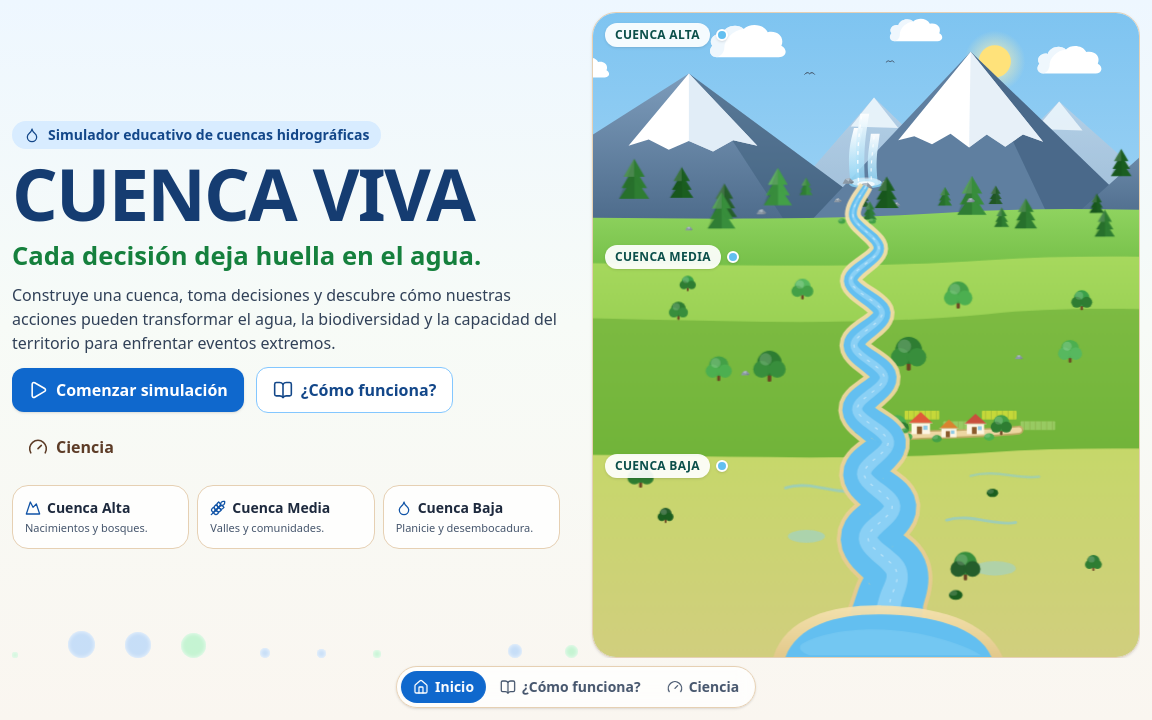
Test: App · flujo completo del simulador › permite iniciar el flujo desde la página Cómo funciona
This screenshot has width=1152, height=720.
Click the 2nd button "¿Cómo funciona?": (570, 687) [488,671,652,703]
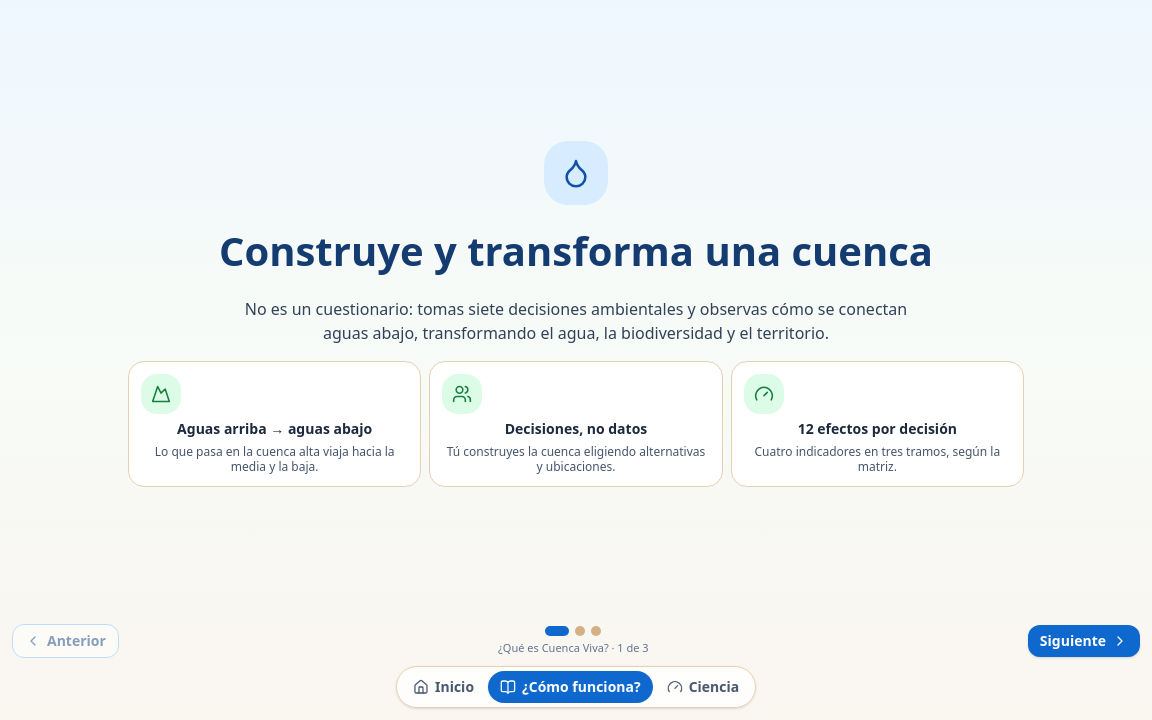
Check: the heading "Construye y transforma una cuenca" is shown, box [219,221,933,281]
Click the button named "Ir a Las siete decisiones": (596, 631) [591,626,601,636]
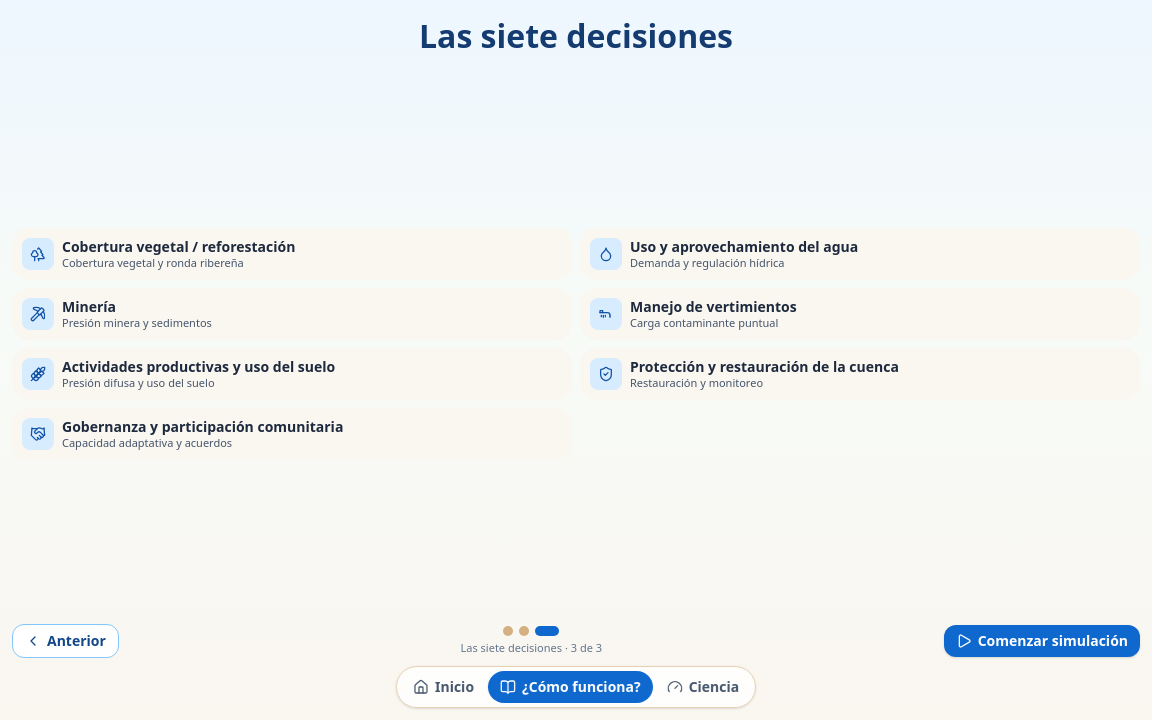
Check: the heading "Las siete decisiones" is shown, box [419,14,733,57]
